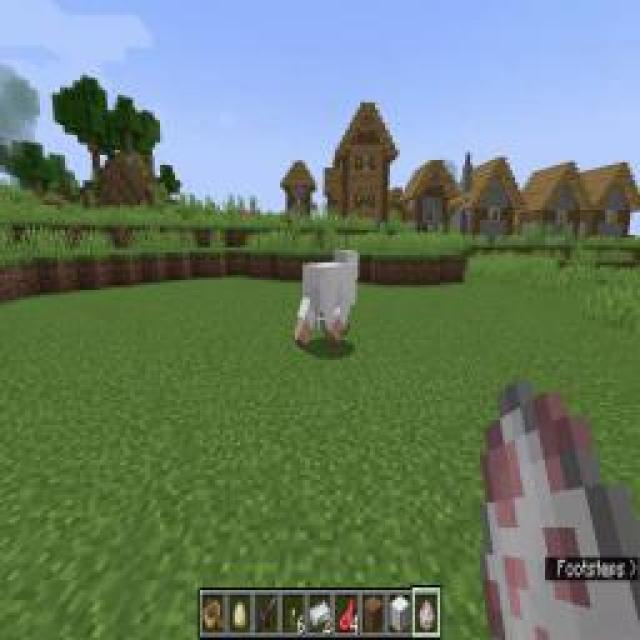Sheep: (290, 244, 362, 354)
